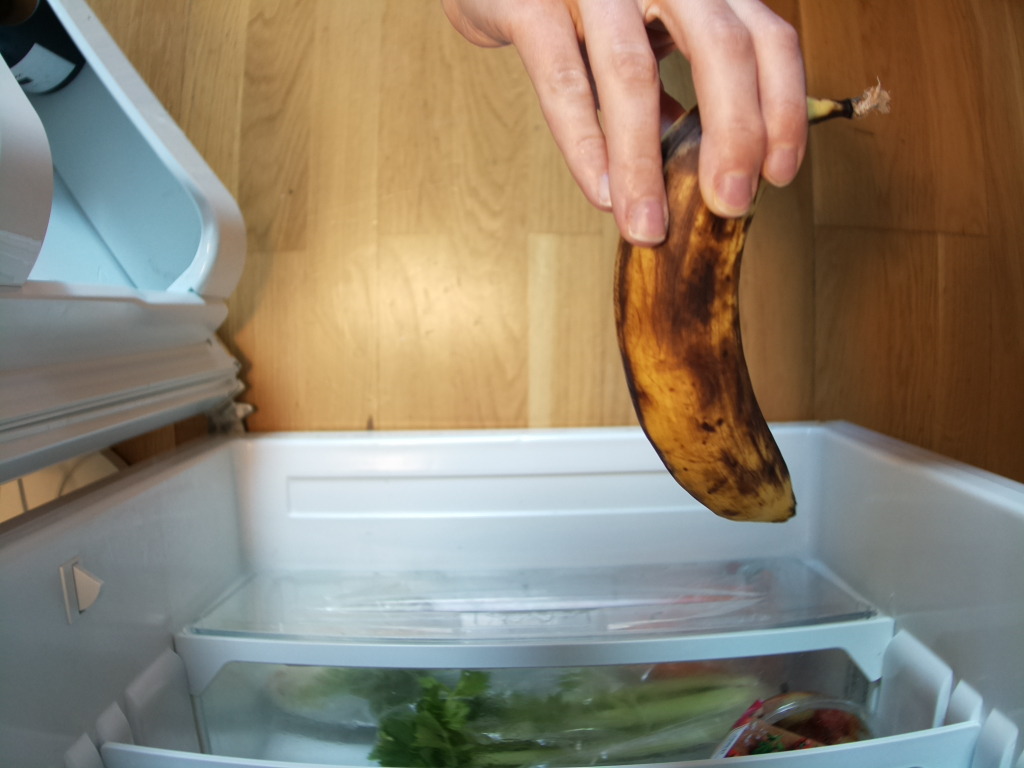banana-overripe: (615, 84, 891, 521)
